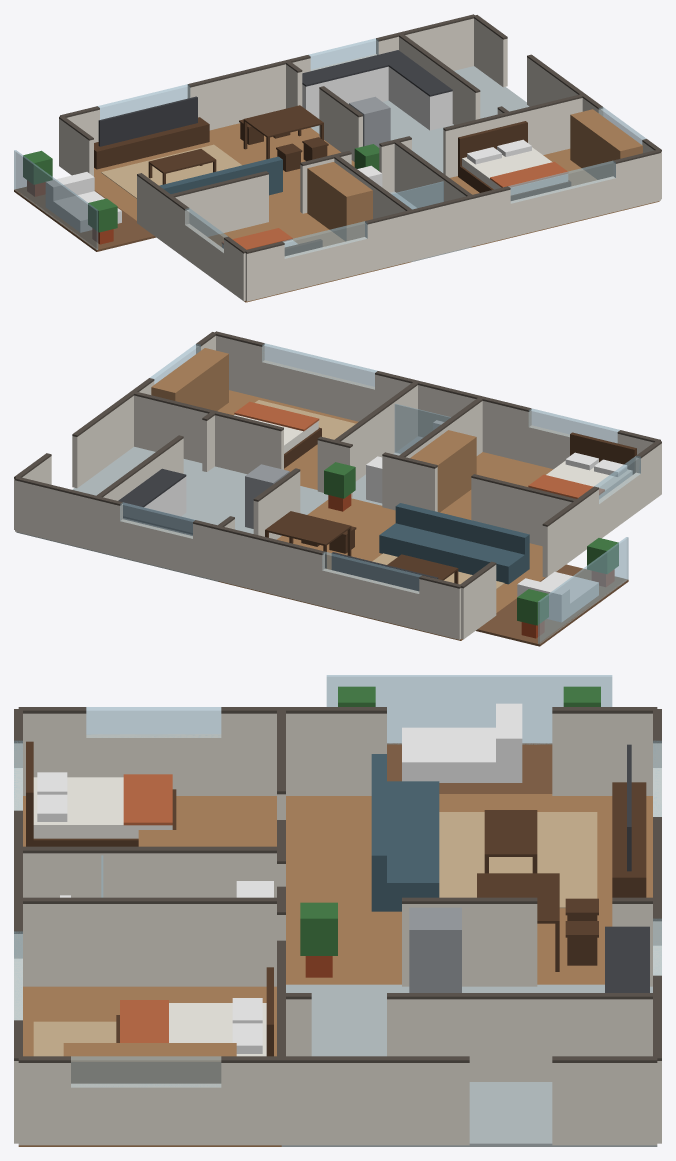
Rendered from apartment-2bhk.glb.
3 views of the same model, one above another, from view 1: azimuth 30°, elevation 25°; view 2: azimuth 150°, elevation 25°; view 3: azimuth 270°, elevation 25° (orthographic). The views are drawn at different scales.
Visible parts, largest first — view 1: wall, wood, glass, darkWood, white, wallCut, counter, tile, plant, rug, linen, deck (+4 smaller); view 2: wall, glass, wood, wallCut, fabric, tile, darkWood, white, counter, plant, deck, fabricWarm (+4 smaller); view 3: wall, wood, glass, wallCut, darkWood, tile, rug, white, fabric, linen, fabricWarm, metal (+3 smaller).
Part boxes in pixels (x1,y1,x2,y2): wall: (59, 18, 661, 301); wood: (94, 109, 659, 302); glass: (14, 38, 646, 258); darkWood: (94, 105, 570, 255); white: (46, 66, 531, 232); wallCut: (59, 14, 661, 253); counter: (98, 50, 452, 146); tile: (311, 66, 529, 261); plant: (23, 144, 379, 232); rug: (101, 144, 241, 198); linen: (222, 147, 567, 248); deck: (14, 187, 155, 251); wall: (14, 335, 661, 639); glass: (120, 343, 640, 644); wood: (151, 348, 552, 640); wallCut: (14, 331, 661, 588); fabric: (379, 503, 529, 584); tile: (16, 436, 422, 581); darkWood: (265, 427, 636, 583); white: (123, 420, 626, 622); counter: (118, 468, 438, 590); plant: (324, 462, 618, 625); deck: (476, 564, 628, 646); fabricWarm: (234, 401, 604, 498); wall: (14, 713, 661, 1145); wood: (18, 794, 652, 1146); glass: (14, 675, 661, 1087); wallCut: (14, 707, 661, 1062); darkWood: (26, 741, 646, 1056); tile: (281, 984, 657, 1146); rug: (33, 812, 597, 1056); white: (37, 703, 522, 1053); fabric: (371, 754, 439, 911); linen: (33, 777, 266, 1056); fabricWarm: (120, 774, 172, 1042); metal: (409, 907, 461, 992).
Bounding box in the file's own units: 12.66 × 1.3 × 8.62.
